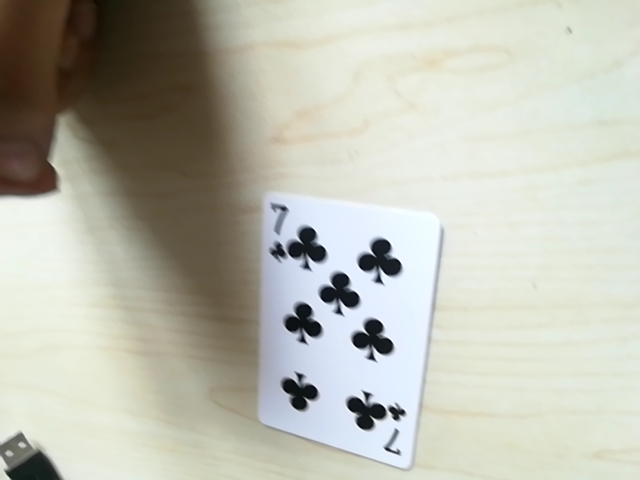mh 7: (256, 200, 304, 260), (363, 407, 405, 461)
